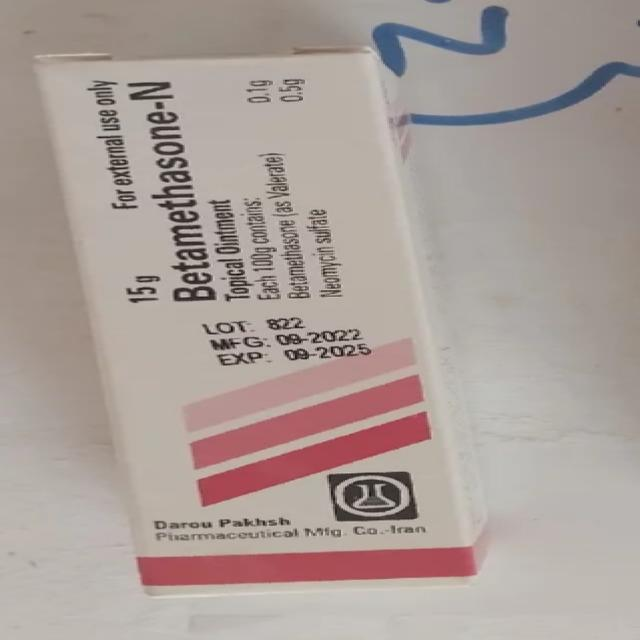drug-name: (126, 77, 219, 304)
